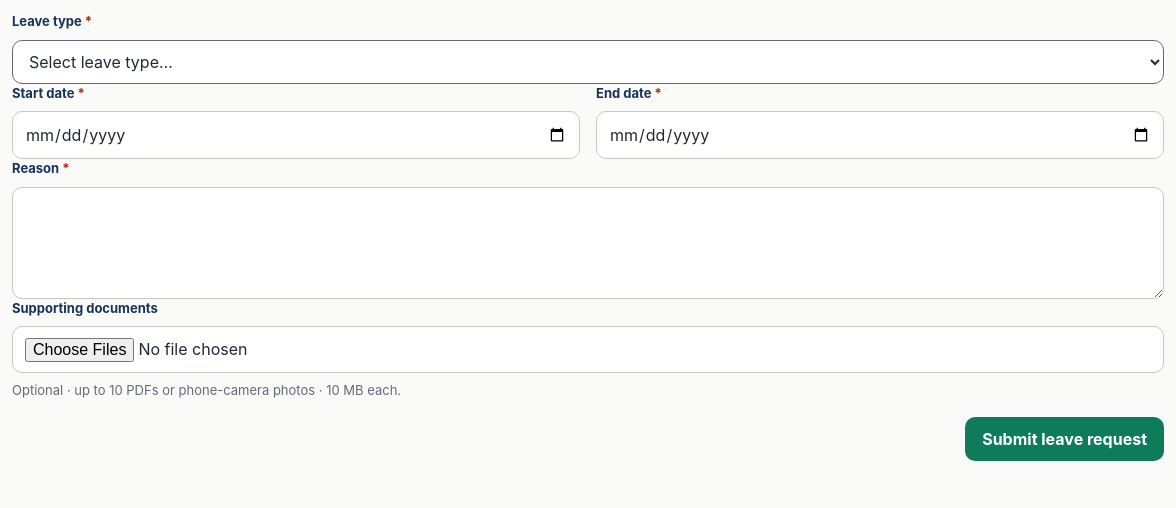
Test: requires a private document when the selected leave type requires evidence
Select "Sick Leave · 21 days" in the dropdown labelled "Leave type *": {"x": 588, "y": 62} [12,40,1164,84]
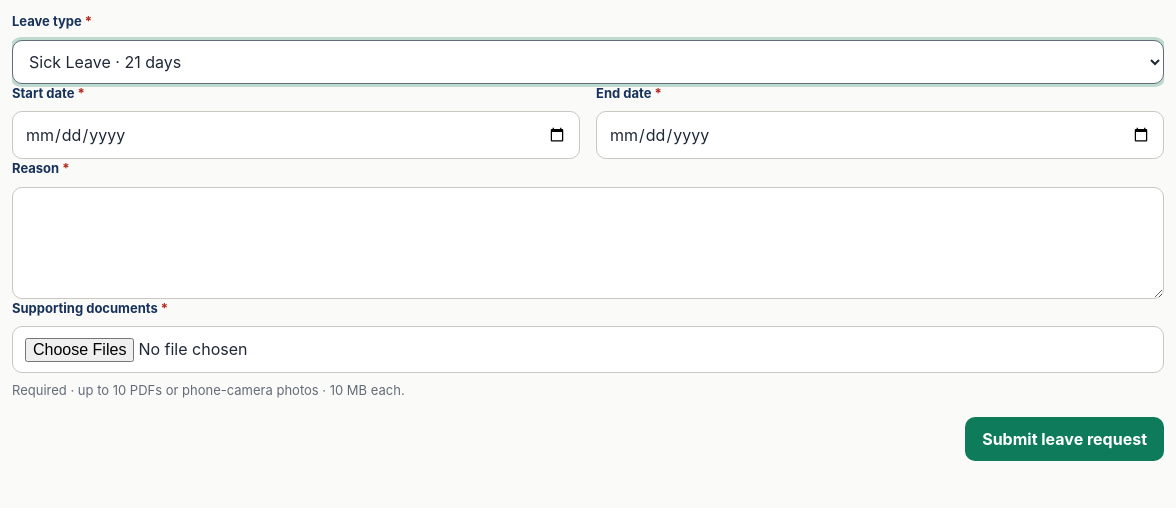
In the date field labelled "Start date *": {"x": 296, "y": 135} [12,111,580,159], type "2026-08-03"
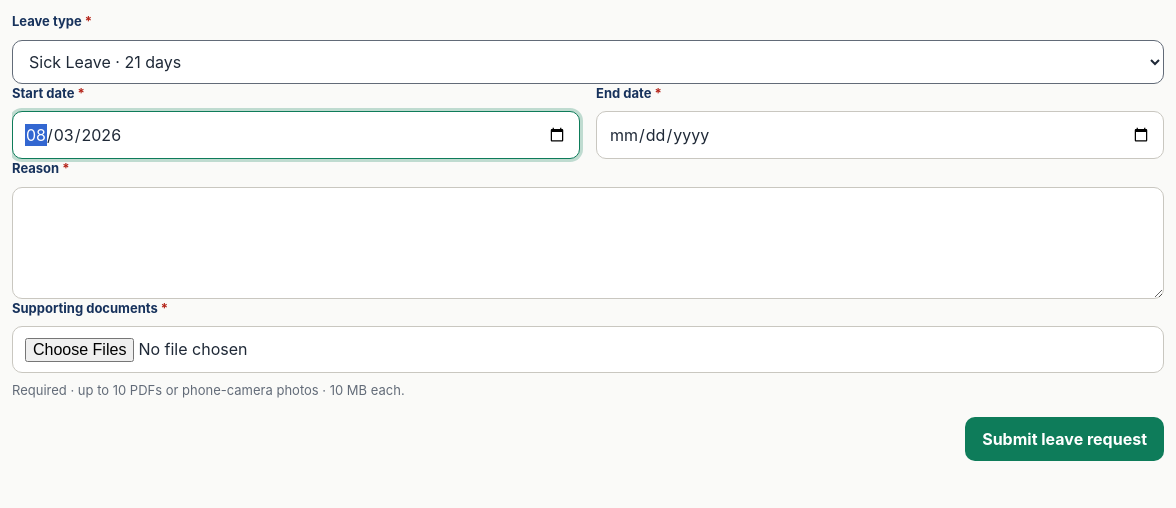
In the date field labelled "End date *": {"x": 880, "y": 135} [596,111,1164,159], type "2026-08-05"
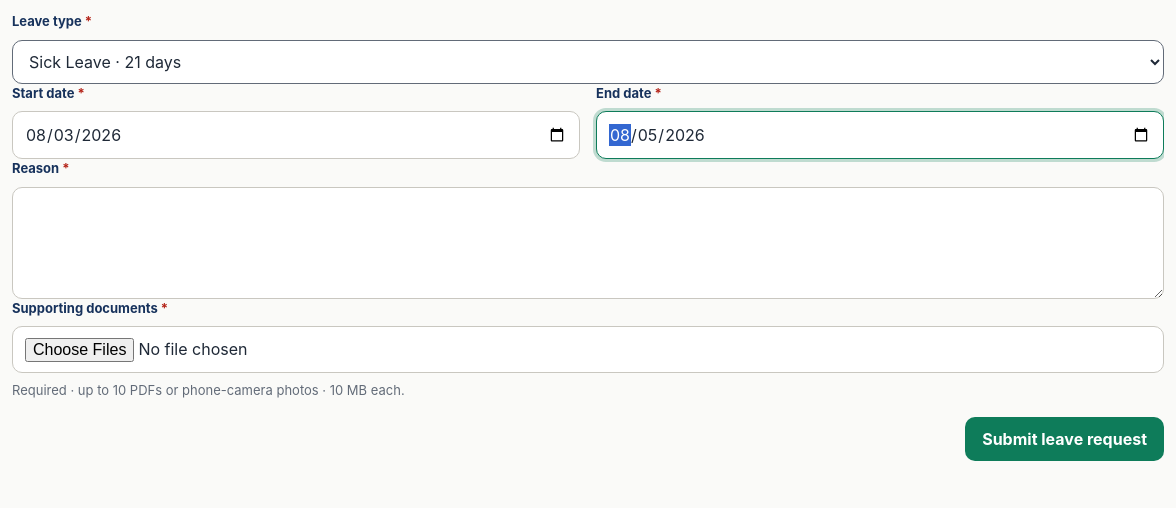
In the text box labelled "Reason *": {"x": 588, "y": 242} [12,186,1164,298], type "Medical recovery"
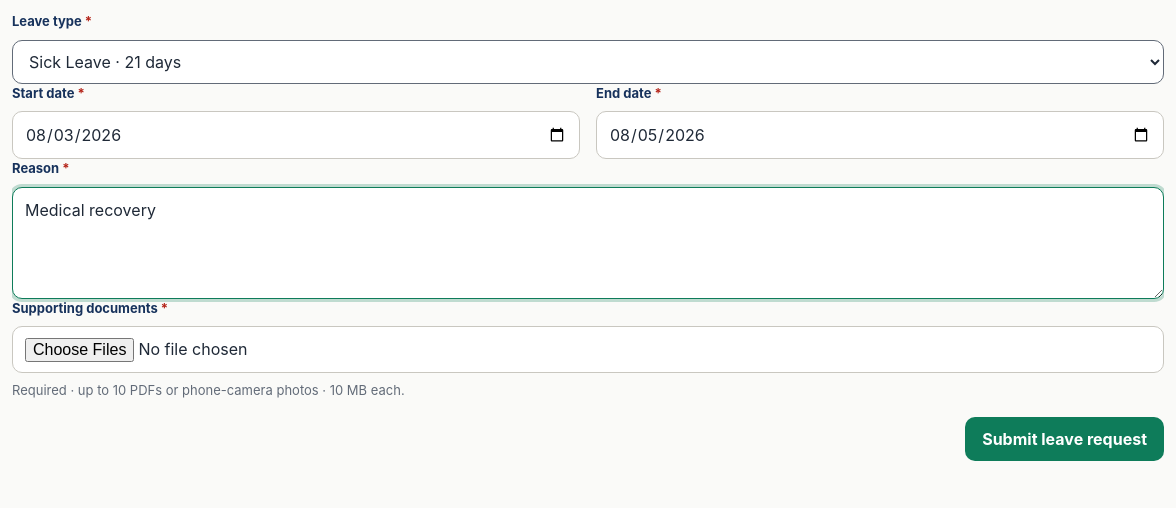
Click the button "Submit leave request": {"x": 1065, "y": 438} [965,416,1164,460]
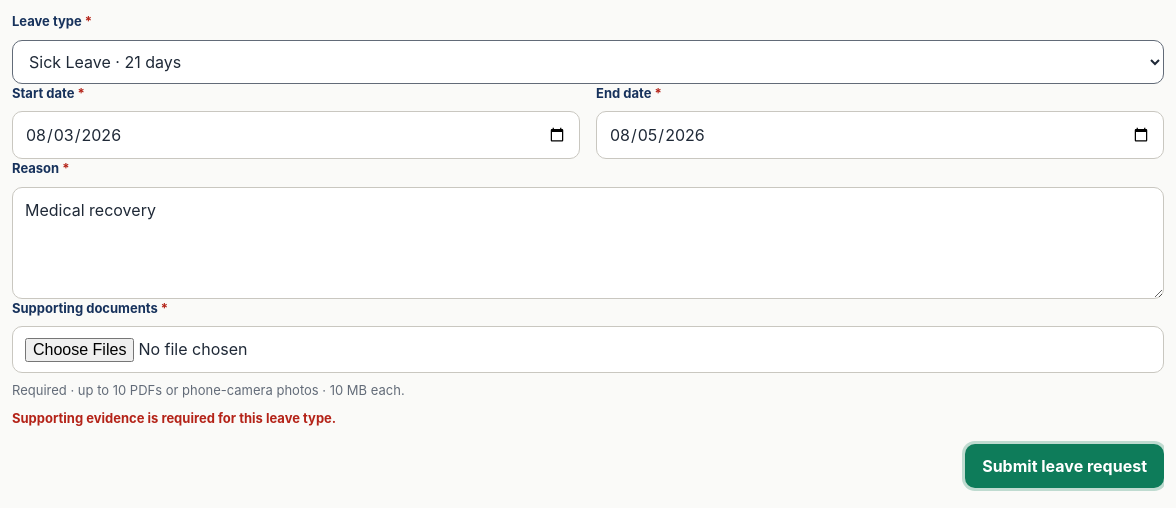
Result: the text "Supporting evidence is required for this leave type." is shown at [12,410,336,426]
